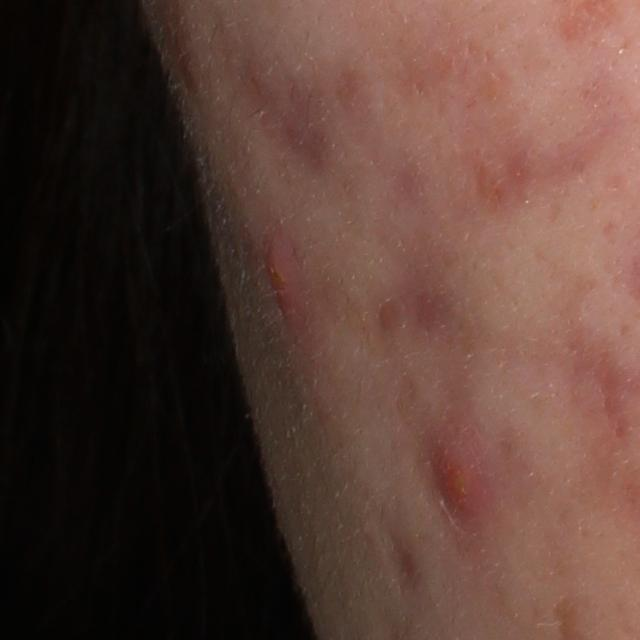atrophic_scar: (226, 31, 336, 194), (378, 518, 420, 592), (595, 357, 632, 439)
papule: (427, 440, 492, 528), (267, 237, 301, 333)
